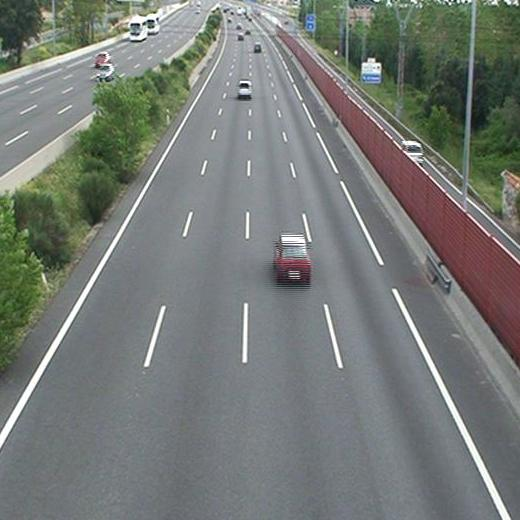bus: (253, 43, 262, 53)
car: (275, 234, 311, 278), (237, 81, 252, 98)
